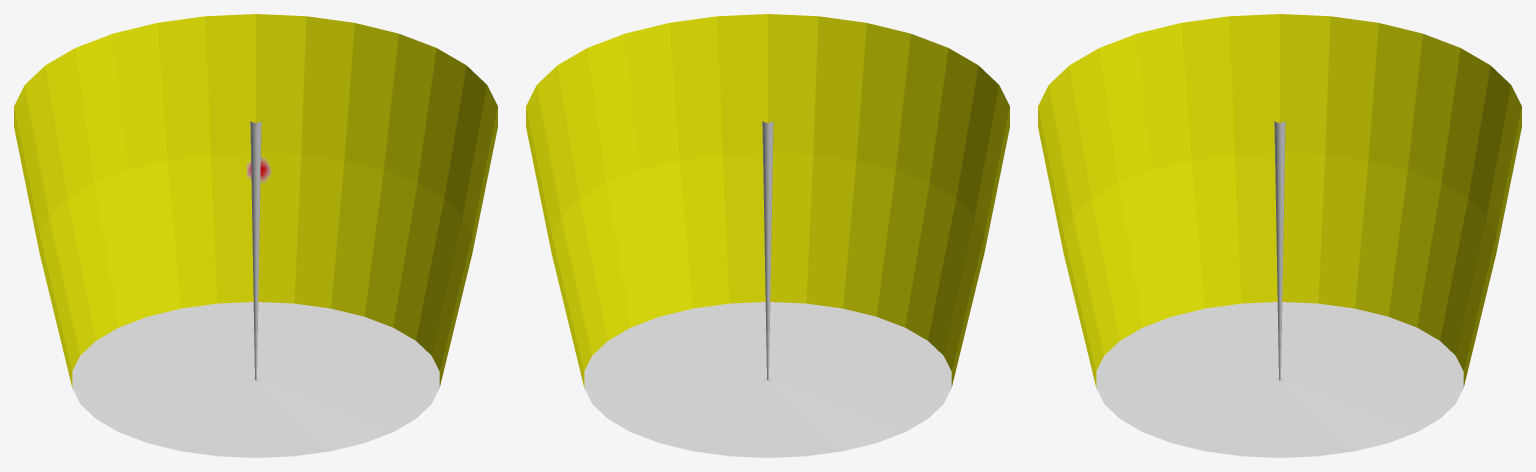
3 renders of one model, left to right at view 1: azimuth 30°, elevation 25°; view 2: azimuth 150°, elevation 25°; view 3: azimuth 270°, elevation 25°, orthographic.
Parts seen in each view (by area): view 1: algeomath; view 2: algeomath; view 3: algeomath.
Part boxes in pixels (x1,y1,x2,y2): algeomath: (14,14,497,457); algeomath: (526,14,1009,457); algeomath: (1038,14,1521,457).
Size of the model in its own units: 11.95 by 7.14 by 11.89.
1 material, 1 textured.
